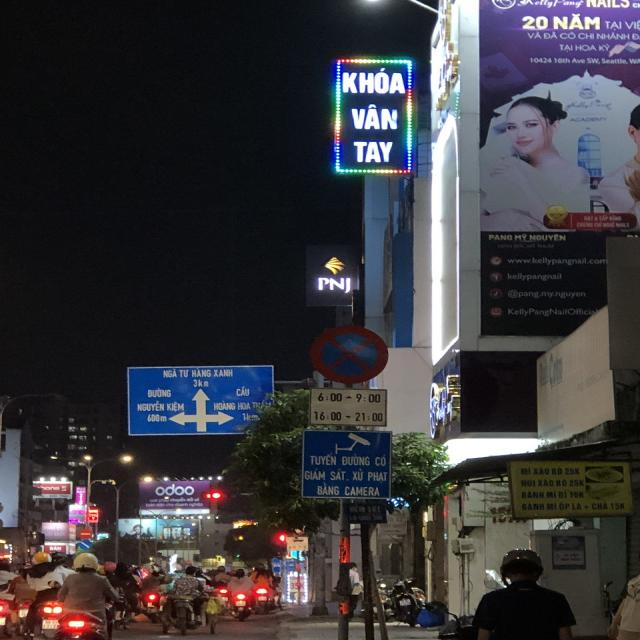Bien bao cam dung xe va do xe: (300, 314, 400, 387)
